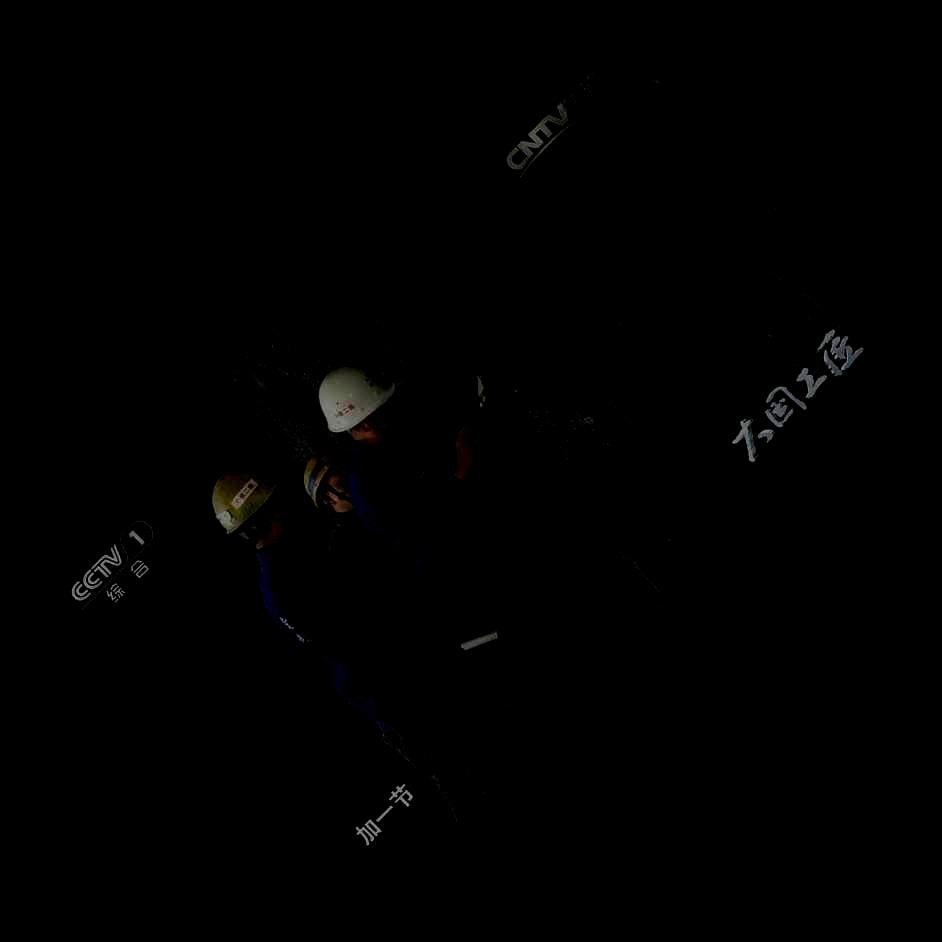helmet: (318, 366, 396, 440), (213, 472, 279, 550), (304, 458, 361, 509)
